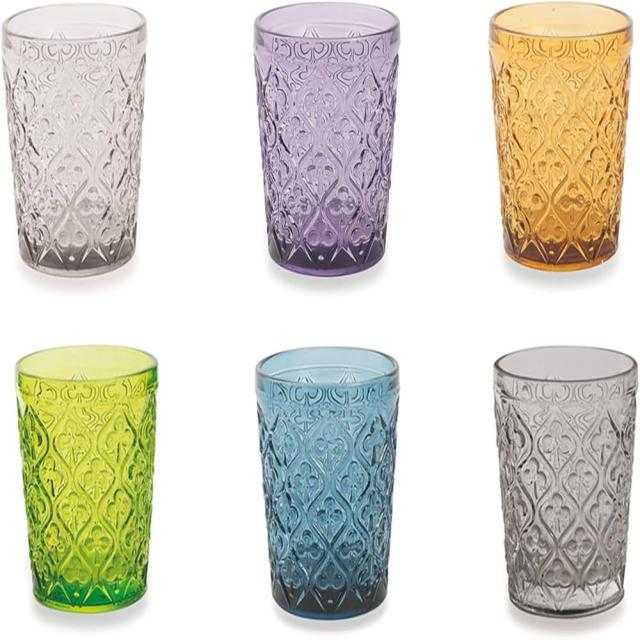glass: (2, 304, 182, 628), (233, 8, 422, 288), (464, 0, 640, 286), (481, 307, 635, 628), (254, 314, 405, 640), (3, 5, 172, 296)
